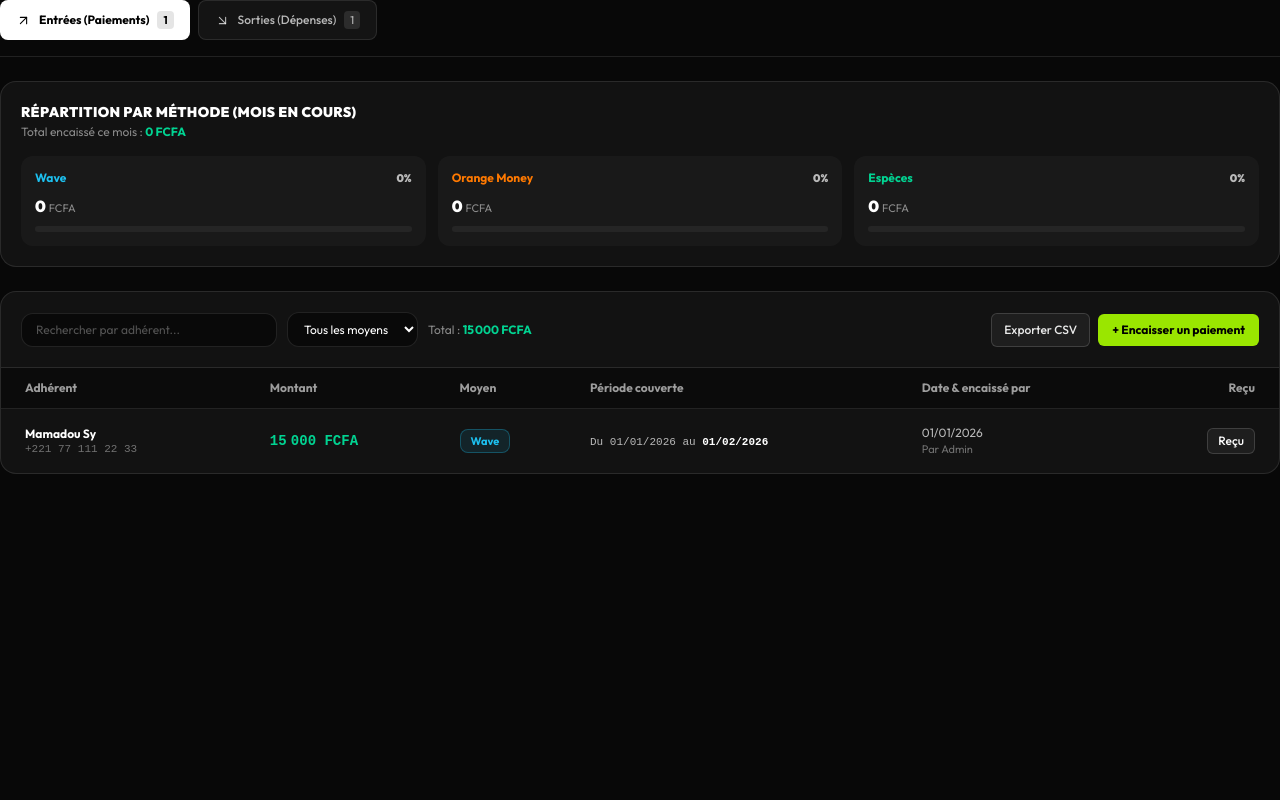
Test case: GymPaymentsTab › affiche les sous-vues Entrées / Sorties pour le super-admin et permet de basculer
This screenshot has width=1280, height=800.
Expected: the tab "Entrées (Paiements) 1" is shown, [0, 0, 190, 40]
Basculer vers Sorties
Click the tab "Sorties (Dépenses) 1". click: point(287, 20)
box: [198, 0, 377, 40]
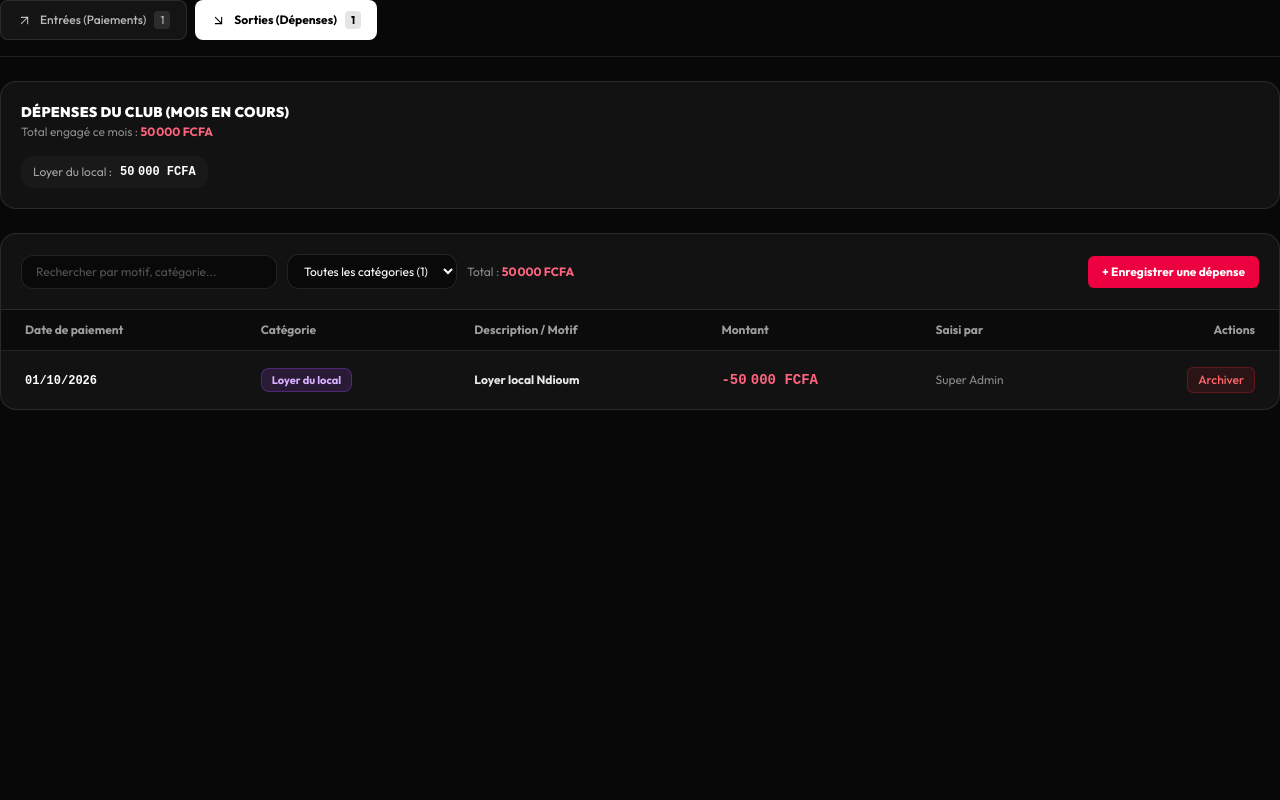
Now the text "Loyer local Ndioum" is shown, box [474, 372, 580, 387]
Now the button "+ Enregistrer une dépense" is shown
Ouvrir la modale dépense
Click the button "+ Enregistrer une dépense". click: point(1174, 272)
box: [1088, 256, 1259, 288]
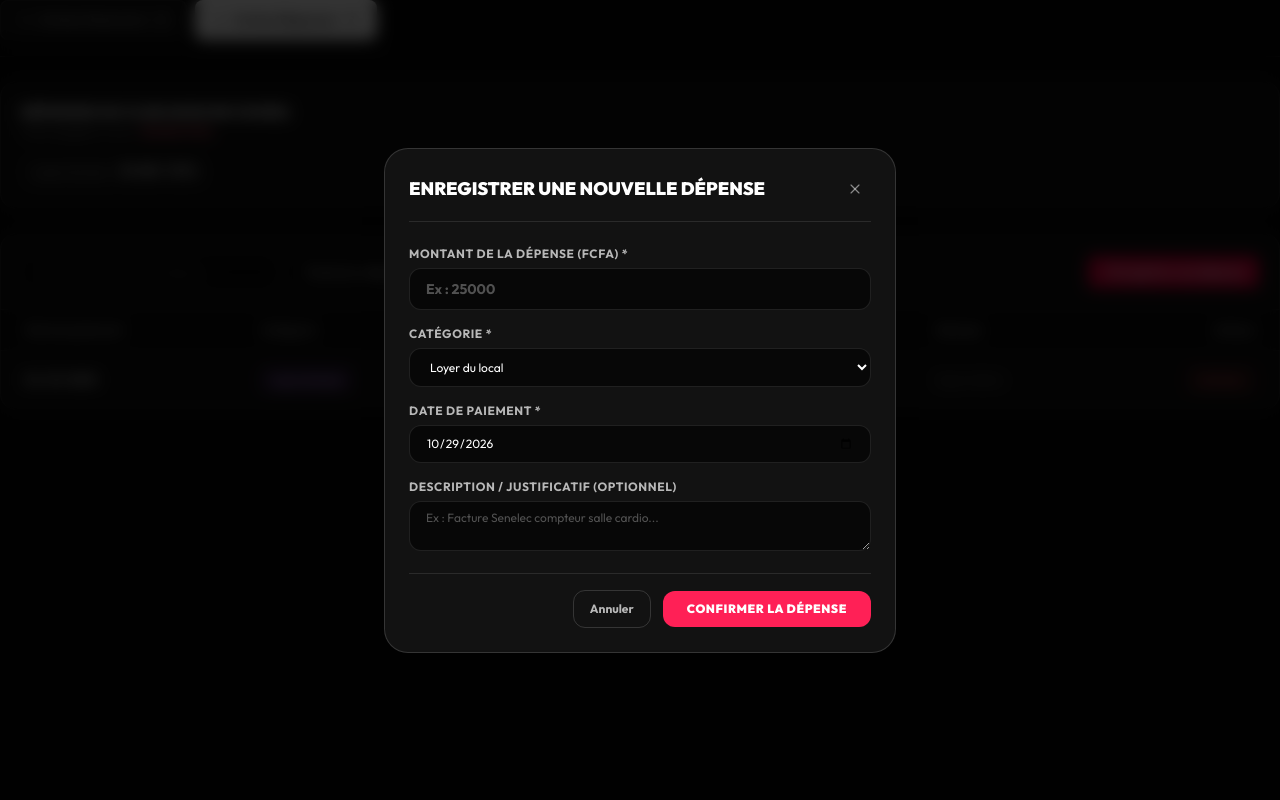
Now the heading "Enregistrer une nouvelle dépense" is shown, box [409, 174, 765, 202]
